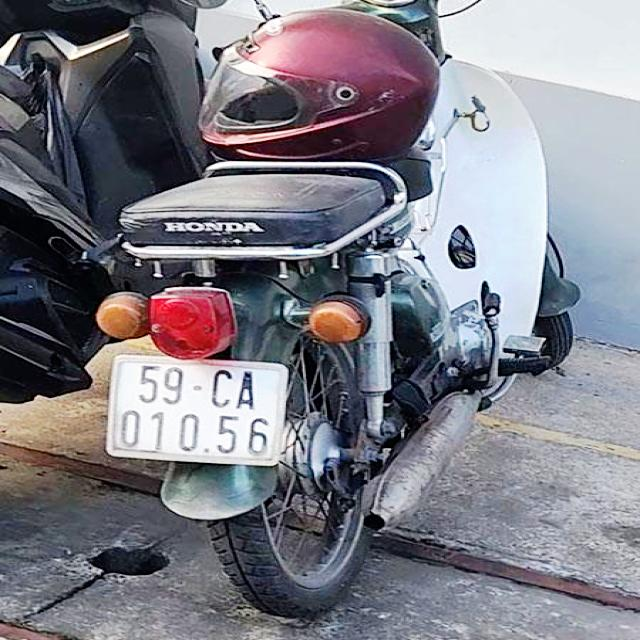license_plate: (110, 359, 284, 463)
